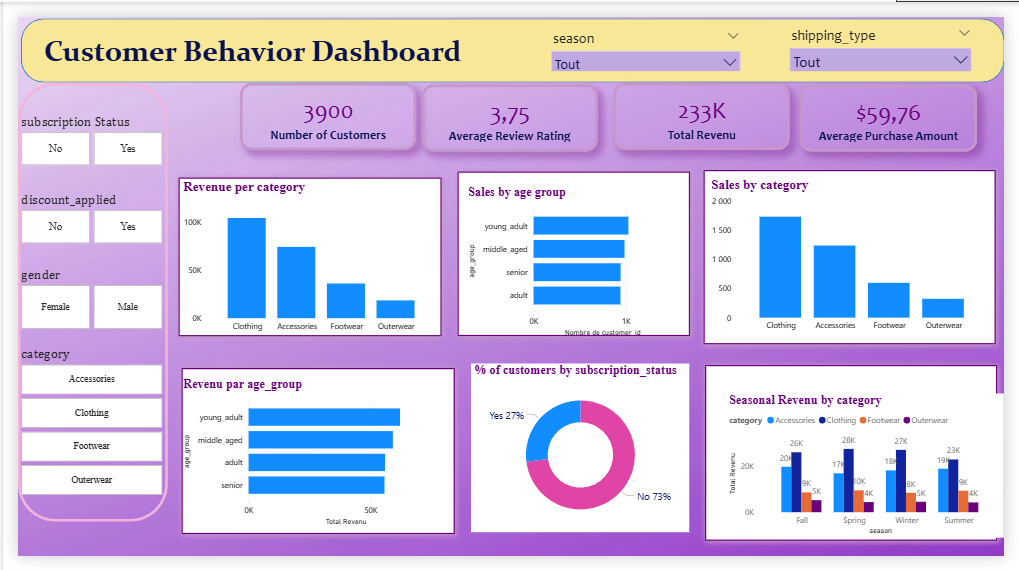

This screenshot's page, from the dashboard's own definition file:
{"tool":"powerbi","page":{"name":"Page 1","canvas":[1500,820],"ordinal":0},"visuals":[{"type":"card","fields":{"Values":["Key_measures.Number of Customers"]},"box":[338,100.7,268,102],"z":0},{"type":"shape","title":"Customer Behavior Dashboard","box":[4,2,1496,97.3],"z":1000},{"type":"card","fields":{"Values":["Key_measures.Average Review Rating"]},"box":[613.3,103.3,268,102],"z":2000},{"type":"card","fields":{"Values":["Key_measures.Average Purchase Amount"]},"box":[1190,102.7,270,102],"z":3000},{"type":"card","fields":{"Values":["Key_measures.Total Revenu"]},"box":[905.3,101.3,268,102],"z":4000},{"type":"shape","box":[239.2,524.9,434.1,270.9],"z":5000},{"type":"clusteredBarChart","title":"Revenu par age_group","fields":{"Category":["customer.age_group"],"Y":["Key_measures.Total Revenu"]},"box":[245.8,547,415.6,230.3],"z":6000},{"type":"shape","box":[1036.4,520.4,462.8,285.7],"z":7000},{"type":"advancedSlicerVisual","fields":{"Values":["customer.subscription_status"]},"box":[0,145.3,224,84],"z":8000},{"type":"advancedSlicerVisual","fields":{"Values":["customer.gender"]},"box":[0,378,224,100],"z":9000},{"type":"advancedSlicerVisual","fields":{"Values":["customer.category"]},"box":[0,500.7,224,232],"z":10000},{"type":"advancedSlicerVisual","fields":{"Values":["customer.discount_applied"]},"box":[0,264,224,84],"z":11000},{"type":"shape","box":[0,100,228,667.3],"z":12000},{"type":"slicer","fields":{"Values":["customer.season"]},"box":[801.7,13.3,307.8,68.7],"z":13000},{"type":"slicer","fields":{"Values":["customer.shipping_type"]},"box":[1164.9,8.9,296.8,73.1],"z":14000},{"type":"clusteredColumnChart","title":"Seasonal Revenu by category","fields":{"Category":["customer.season"],"Y":["Key_measures.Total Revenu"],"Series":["customer.category"]},"box":[1077,572.8,423,219.2],"z":15000},{"type":"shape","box":[1034.2,223.7,462.8,283.5],"z":16000},{"type":"clusteredColumnChart","title":"Sales by category","fields":{"Category":["customer.category"],"Y":["CountNonNull(customer.customer_id)"]},"box":[1049.7,243.6,429.6,242.9],"z":17000},{"type":"shape","box":[659.9,225.1,372.1,268.7],"z":18000},{"type":"shape","box":[234.7,234,418.6,259.8],"z":19000},{"type":"clusteredBarChart","title":"Sales by age group","fields":{"Category":["customer.age_group"],"Y":["Count(customer.customer_id)"]},"box":[679.9,254.7,334.4,234.7],"z":20000},{"type":"donutChart","title":"% of customers by subscription_status","fields":{"Category":["customer.subscription_status"],"Y":["CountNonNull(customer.customer_id)"]},"box":[688.7,527.1,332.2,256.9],"z":21000},{"type":"clusteredColumnChart","title":"Revenue per category","fields":{"Y":["Sum(customer.purchase_amount)"],"Category":["customer.category"]},"box":[245.8,247.3,394.2,241.4],"z":22000}]}

Visuals, with their boxes in screenshot pixels (x1, y1, x2, y2), scaled from the page's 1500x820 canvas onto the 1019x570 screenshot:
card - Key_measures.Number of Customers: crop(230, 70, 412, 141)
"Customer Behavior Dashboard" shape: crop(3, 1, 1018, 69)
card - Key_measures.Average Review Rating: crop(417, 72, 599, 143)
card - Key_measures.Average Purchase Amount: crop(808, 71, 992, 142)
card - Key_measures.Total Revenu: crop(615, 70, 797, 141)
shape: crop(162, 365, 457, 553)
"Revenu par age_group" clusteredBarChart: crop(167, 380, 449, 540)
shape: crop(704, 362, 1018, 560)
advancedSlicerVisual - customer.subscription_status: crop(0, 101, 152, 159)
advancedSlicerVisual - customer.gender: crop(0, 263, 152, 332)
advancedSlicerVisual - customer.category: crop(0, 348, 152, 509)
advancedSlicerVisual - customer.discount_applied: crop(0, 184, 152, 242)
shape: crop(0, 70, 155, 533)
slicer - customer.season: crop(545, 9, 754, 57)
slicer - customer.shipping_type: crop(791, 6, 993, 57)
"Seasonal Revenu by category" clusteredColumnChart: crop(732, 398, 1018, 551)
shape: crop(703, 155, 1017, 353)
"Sales by category" clusteredColumnChart: crop(713, 169, 1005, 338)
shape: crop(448, 156, 701, 343)
shape: crop(159, 163, 444, 343)
"Sales by age group" clusteredBarChart: crop(462, 177, 689, 340)
"% of customers by subscription_status" donutChart: crop(468, 366, 694, 545)
"Revenue per category" clusteredColumnChart: crop(167, 172, 435, 340)
